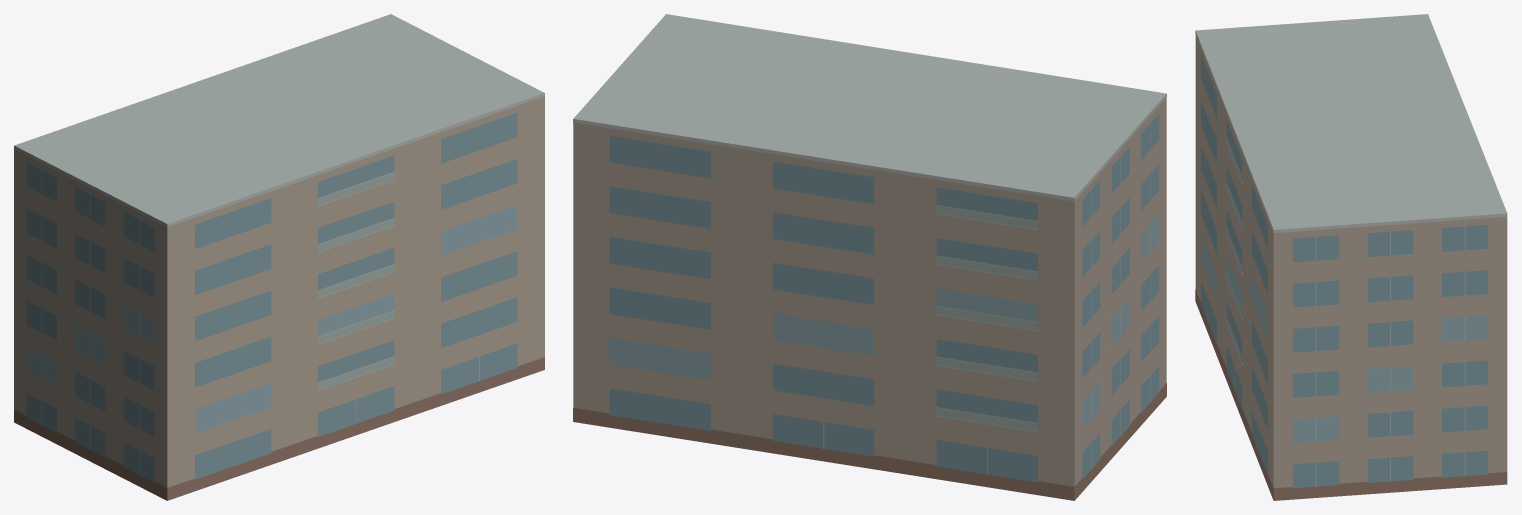
Rendered from survey-upis-32859778.glb.
3 renders of one model, left to right at view 1: azimuth 30°, elevation 25°; view 2: azimuth 150°, elevation 25°; view 3: azimuth 270°, elevation 25°, orthographic. The views are drawn at different scales.
Visible parts, largest first — view 1: survey-upis-32859778.tmp; view 2: survey-upis-32859778.tmp; view 3: survey-upis-32859778.tmp.
Part boxes in pixels (x1,y1,x2,y2): survey-upis-32859778.tmp: (14,14,544,500); survey-upis-32859778.tmp: (573,14,1166,500); survey-upis-32859778.tmp: (1195,14,1507,500).
Size of the model in its own units: 34.26 by 20.05 by 20.92.
